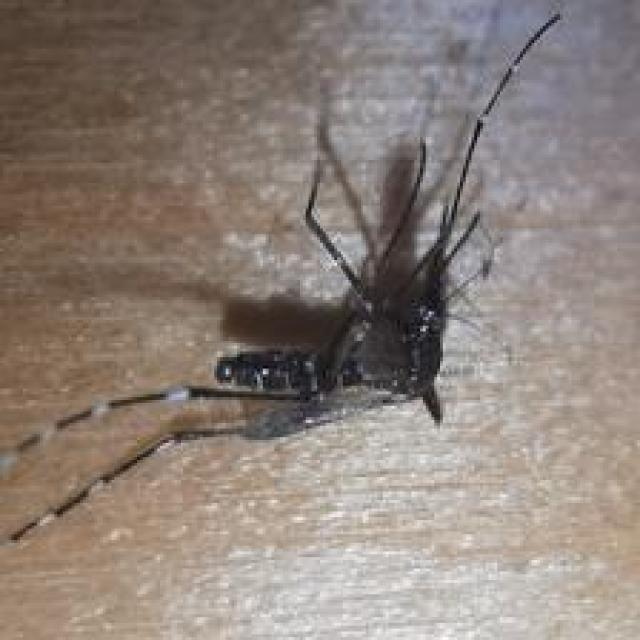Aedes albopictus: (0, 8, 563, 546)
